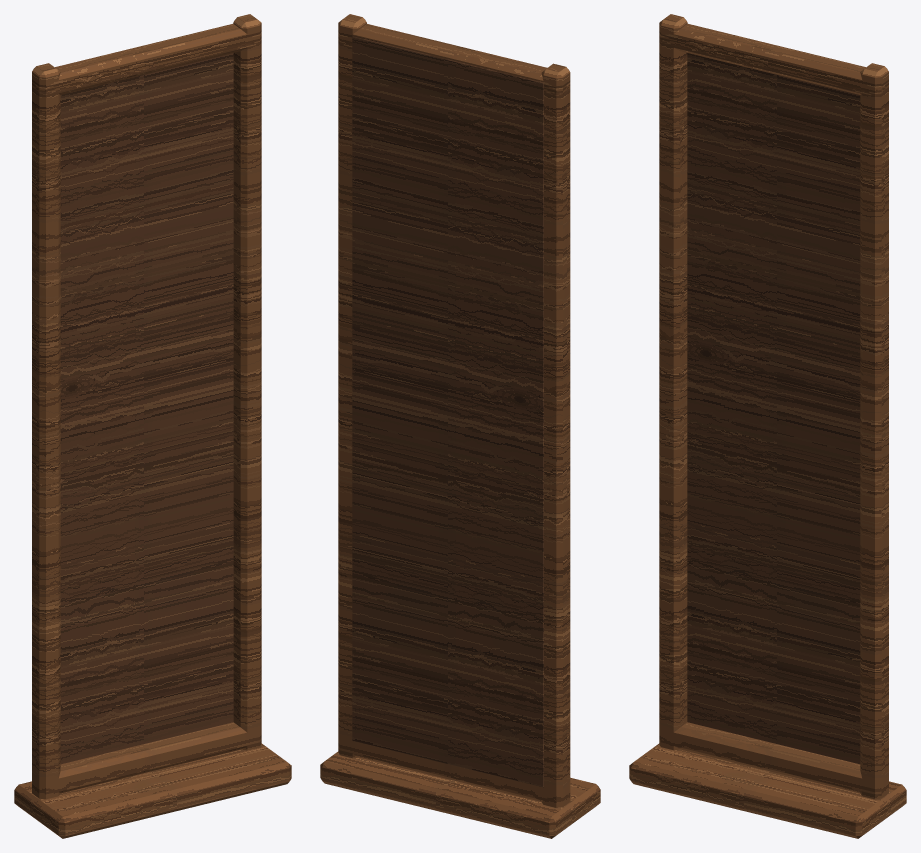
File: standing_mirror.glb
3 renders of one model, left to right at view 1: azimuth 30°, elevation 25°; view 2: azimuth 150°, elevation 25°; view 3: azimuth 330°, elevation 25°, orthographic.
Parts seen in each view (by area): view 1: p; view 2: p; view 3: p.
Boxes of the visible parts, x1,y1,x2,y2 form: p: (14, 14, 291, 838); p: (320, 14, 600, 838); p: (629, 14, 906, 838).
Size of the model in its own units: 0.44 by 1.35 by 0.16.
2 materials, 2 textured.
